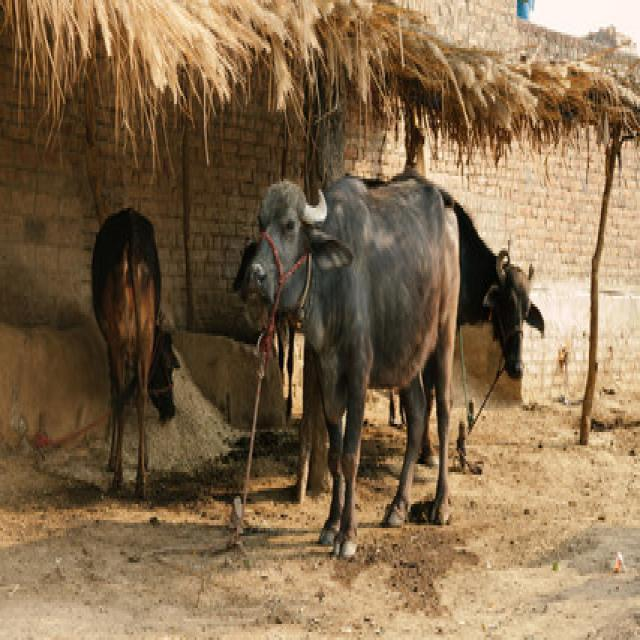Buffalo: (230, 172, 464, 568)
